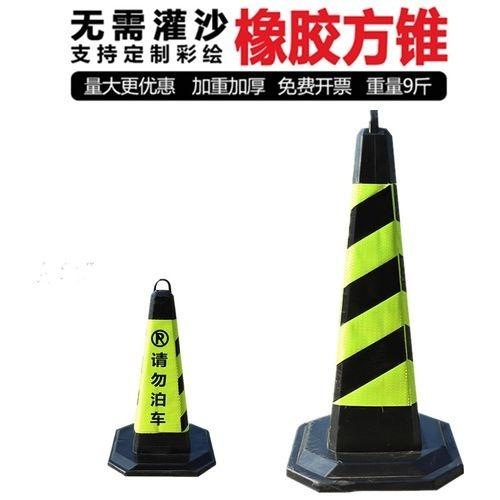cone_barrel: (288, 122, 453, 489), (113, 279, 205, 474)
